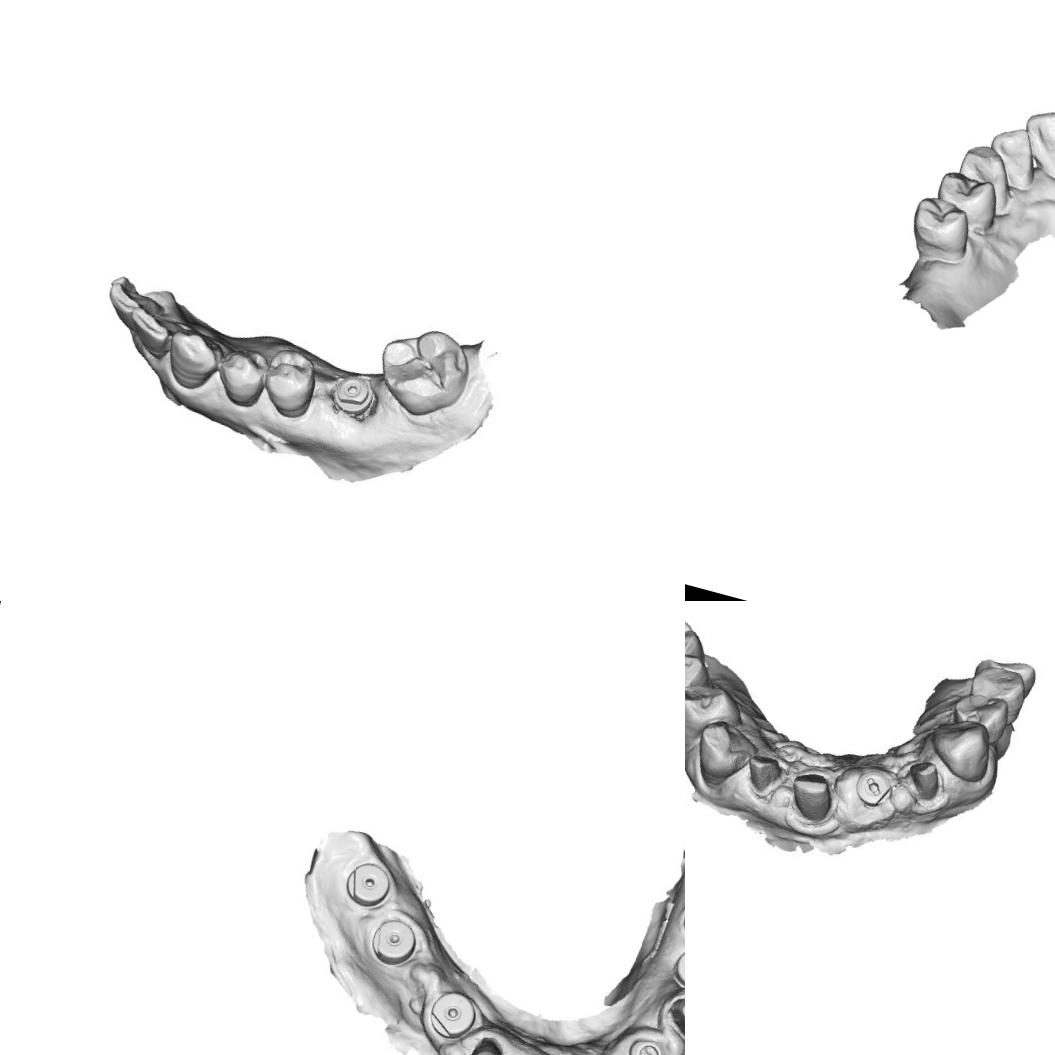canine: (950, 139, 1022, 210), (927, 714, 996, 788), (162, 323, 224, 392), (696, 722, 757, 786)
crown: (786, 766, 840, 822), (902, 753, 950, 805), (741, 750, 784, 792), (657, 988, 685, 1046), (453, 1030, 508, 1055)
implant: (363, 912, 423, 970), (339, 854, 398, 912), (424, 986, 482, 1044), (324, 368, 380, 420), (622, 1032, 668, 1055), (669, 940, 685, 990)
implant_minus: (847, 765, 900, 814)
incisor: (979, 119, 1048, 194), (1009, 97, 1055, 186), (100, 269, 164, 332), (126, 304, 182, 360)
molar: (374, 316, 469, 410)
premolar: (902, 190, 981, 266), (926, 164, 1005, 233), (256, 343, 321, 421), (212, 340, 272, 413), (685, 679, 739, 742), (953, 688, 1011, 734), (970, 662, 1026, 708), (685, 644, 712, 707)
